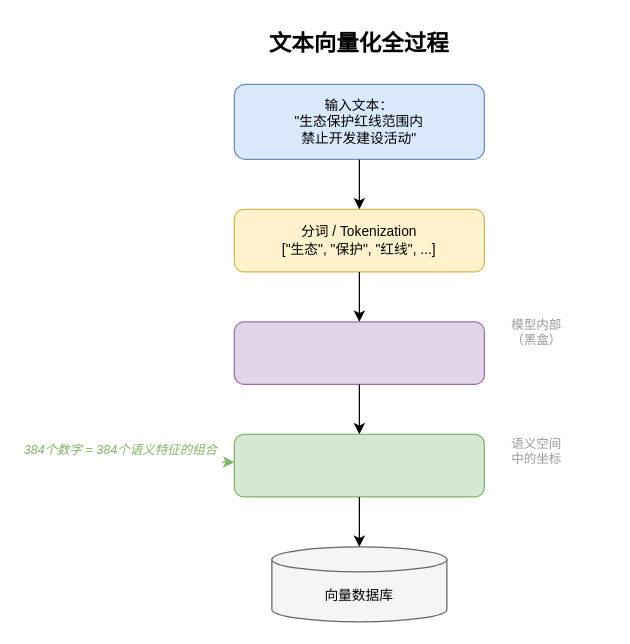
Image size: 630x644. Some labels were removed from this diagram. Here are the shapes that lost their labels. From the top down, the centre of each, then its label:
(x=358, y=352): Embedding 模型 (AllMiniLmL6V2 神经网络)
(x=358, y=465): 输出向量 (384维)： [0.82, -0.15, 0.33, ..., -0.12]
